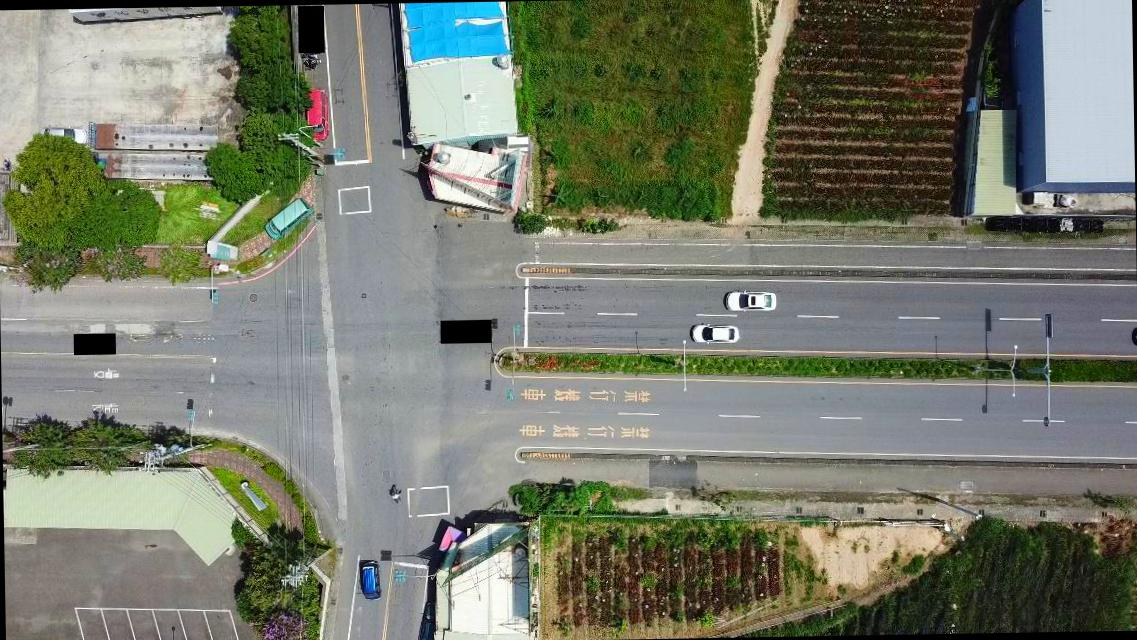vehicle: (262, 196, 314, 238), (724, 290, 780, 316), (305, 89, 329, 140), (40, 124, 88, 148), (689, 323, 740, 344), (358, 560, 381, 602), (415, 599, 438, 639)
